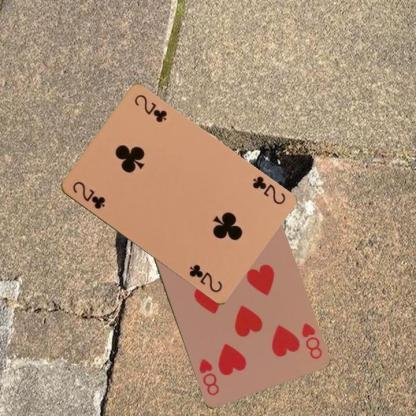2c: (249, 174, 288, 206), (70, 178, 106, 210)
8h: (298, 320, 324, 361)
